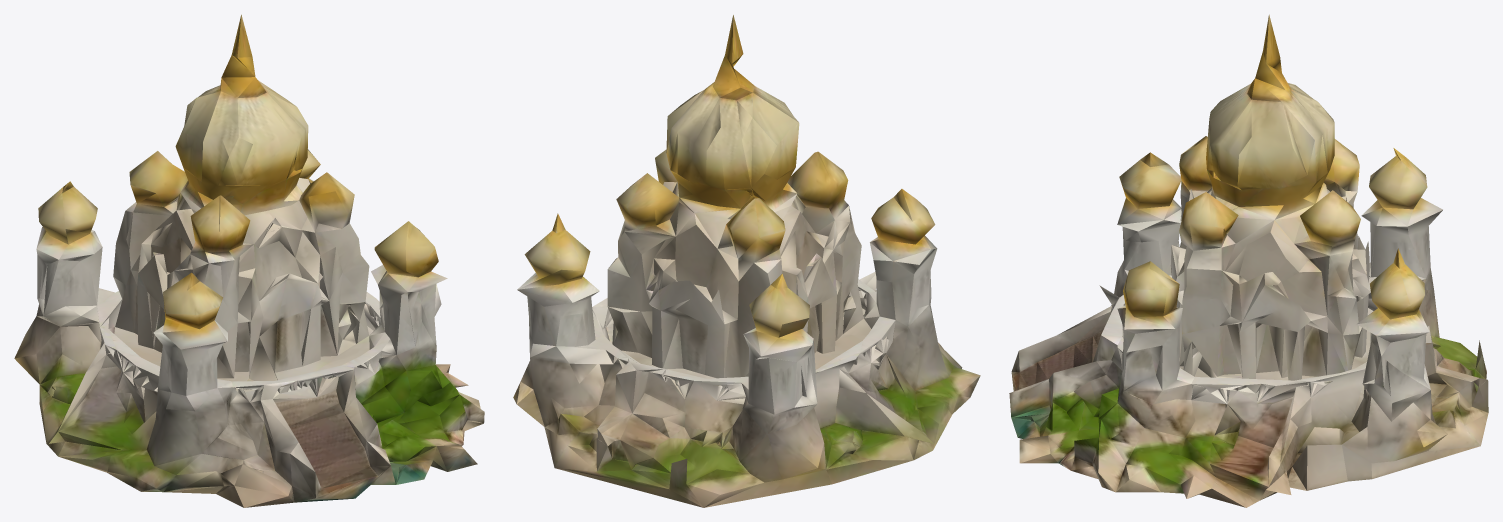
Rendered from floatingPalaceR.glb.
The picture shows the model from 3 angles, left to right: view 1: azimuth 30°, elevation 25°; view 2: azimuth 150°, elevation 25°; view 3: azimuth 270°, elevation 25°; orthographic projection.
Visible parts, largest first — view 1: model; view 2: model; view 3: model.
Part boxes in pixels (x1,y1,x2,y2): model: (14,14,484,507); model: (513,15,980,507); model: (1009,14,1488,507).
Bounding box in the file's own units: 1.82 × 1.73 × 1.89.
Materials: 1 (1 with a texture image).
